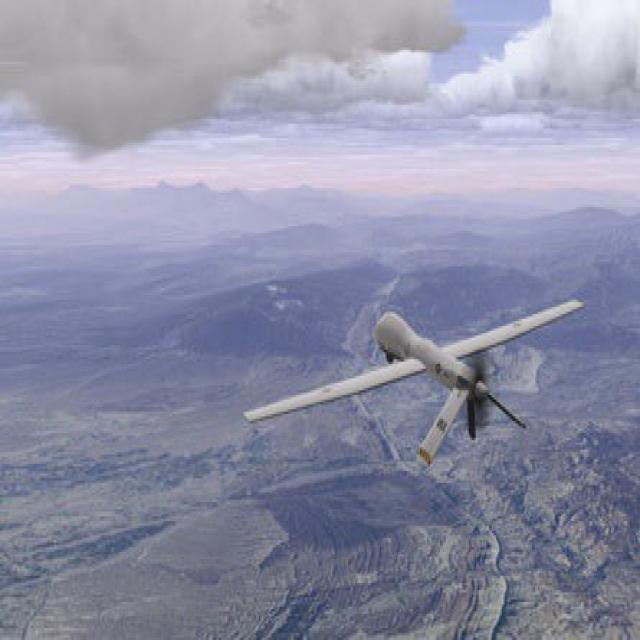iha: (242, 295, 588, 468)
